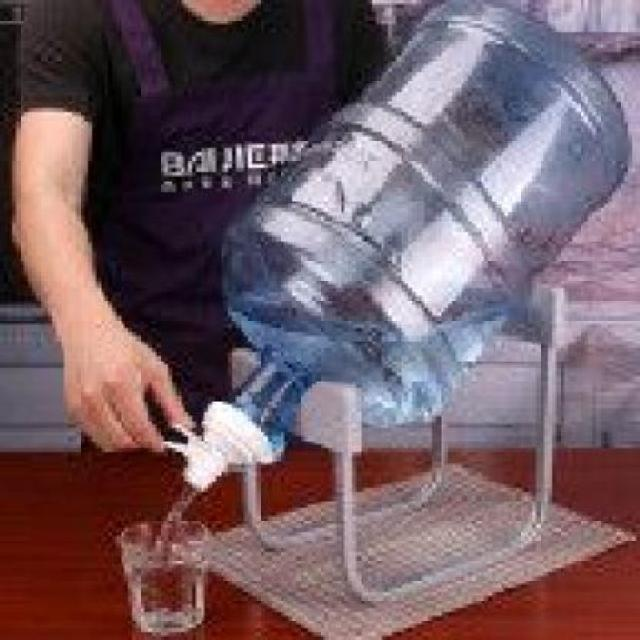coolerbottle: (214, 0, 640, 452)
